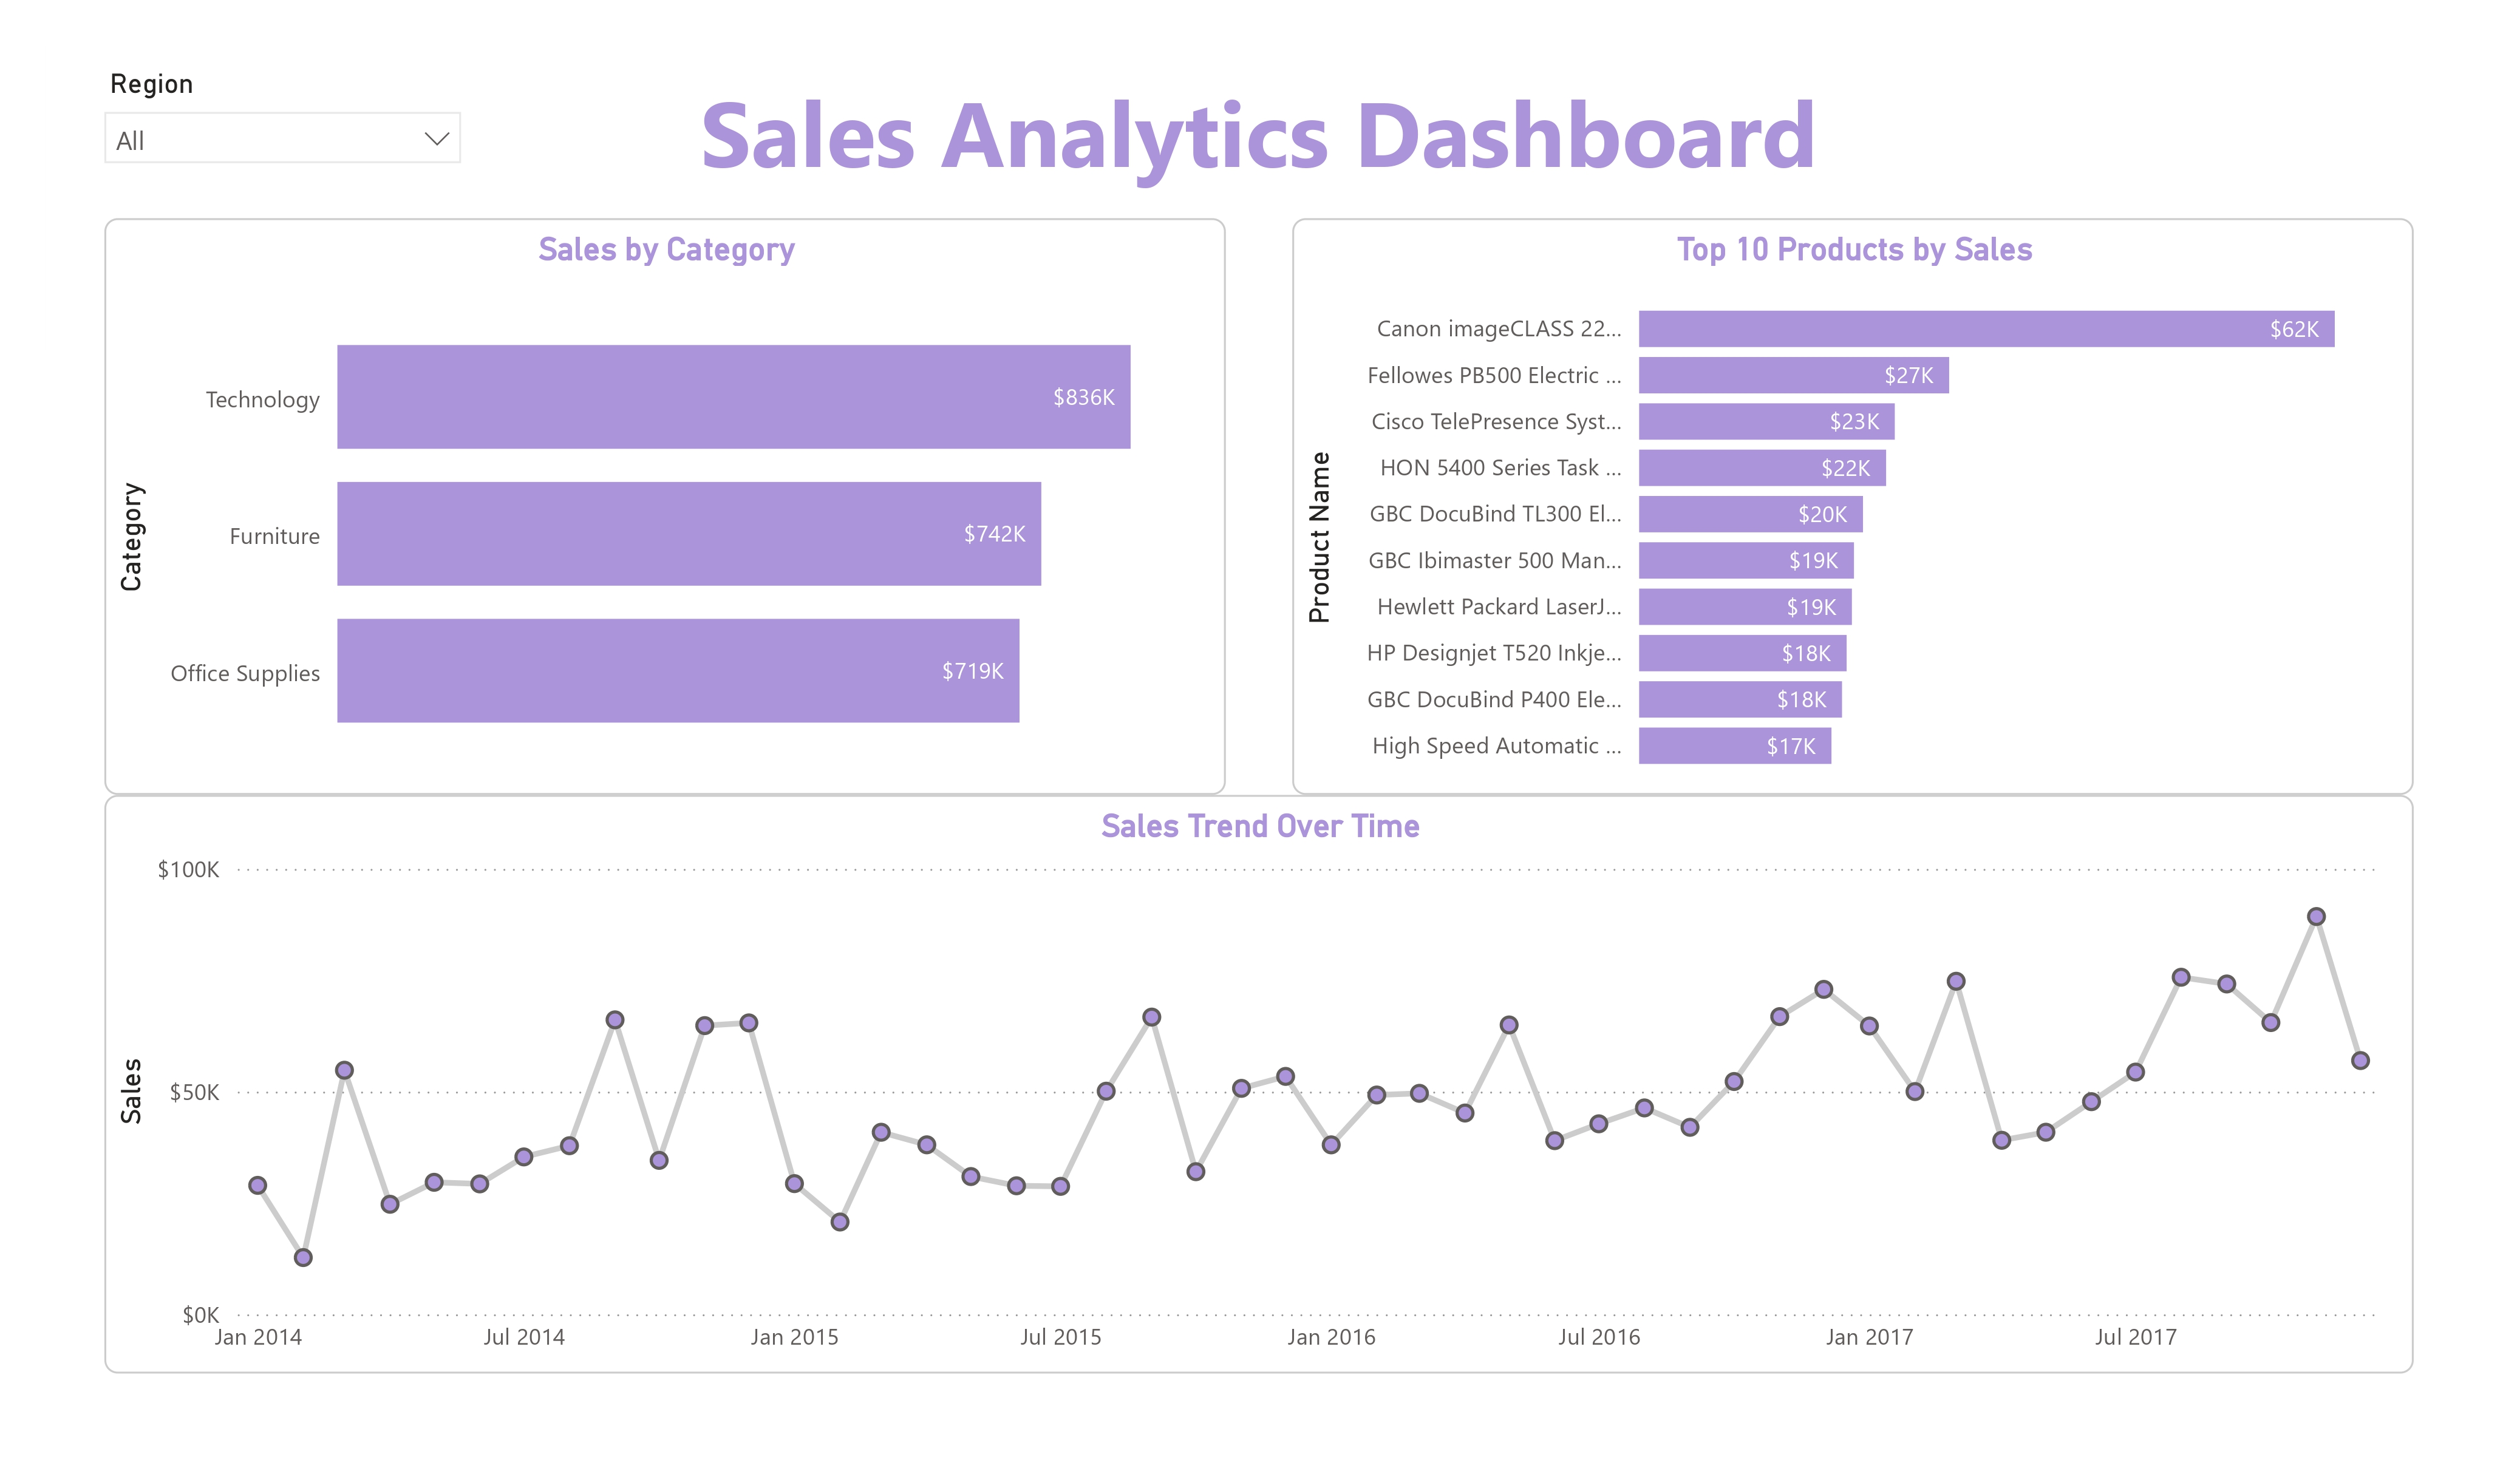

The page's visual inventory and layout, read from the dashboard file:
{"tool":"powerbi","page":{"name":"Sales Performance Dashboard","canvas":[1280,720],"ordinal":0},"visuals":[{"type":"clusteredBarChart","title":"Sales by Category","fields":{"Category":["Sample - Superstore.Category"],"Y":["Sum(Sample - Superstore.Sales)"]},"box":[31.4,90.7,590.7,304.7],"z":0},{"type":"lineChart","title":"Sales Trend Over Time","fields":{"Y":["Sum(Sample - Superstore.Sales)"],"Category":["Sample - Superstore.Order Date.Variation.Date Hierarchy.Year","Sample - Superstore.Order Date.Variation.Date Hierarchy.Month"]},"box":[31.4,395.3,1216.3,304.7],"z":1000},{"type":"clusteredBarChart","title":"Top 10 Products by Sales","fields":{"Category":["Sample - Superstore.Product Name"],"Y":["Sum(Sample - Superstore.Sales)"]},"box":[657,90.7,590.7,304.7],"z":2000},{"type":"slicer","fields":{"Values":["Sample - Superstore.Region"]},"box":[21,7,208,65],"z":3000},{"type":"textbox","box":[279.1,7,720.9,77.9],"z":4000}]}

Visuals, with their boxes on the page's 1280x720 design canvas (x1, y1, x2, y2). These are canvas units, not pixel positions in the 2520x1457 screenshot, which may show the page scaled, cropped or inside an application window:
"Sales by Category" clusteredBarChart: Rect(31, 91, 622, 395)
"Sales Trend Over Time" lineChart: Rect(31, 395, 1248, 700)
"Top 10 Products by Sales" clusteredBarChart: Rect(657, 91, 1248, 395)
slicer - Sample - Superstore.Region: Rect(21, 7, 229, 72)
textbox: Rect(279, 7, 1000, 85)
